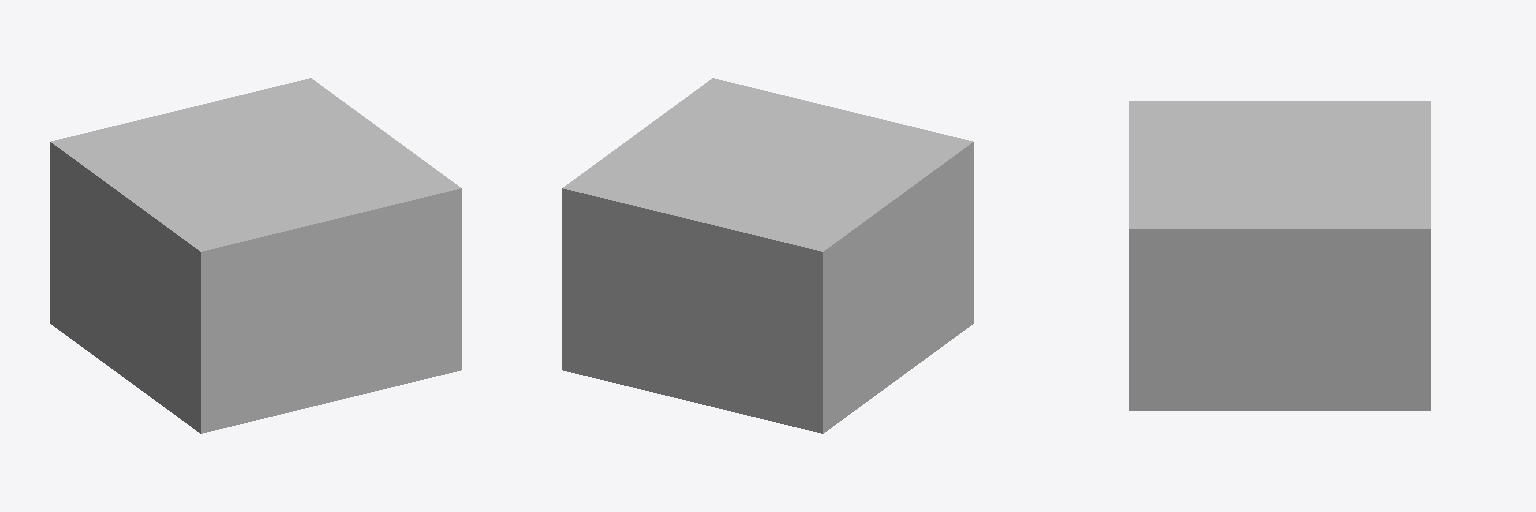
The model's file is Bunker - Free Sample-34-Cardboard_Dark_Brown_Close-14.obj.
The picture shows the model from 3 angles: view 1: azimuth 30°, elevation 25°; view 2: azimuth 150°, elevation 25°; view 3: azimuth 270°, elevation 25°; orthographic projection.
Parts seen in each view (by area): view 1: Cardboard_Dark_Brown_Close-14; view 2: Cardboard_Dark_Brown_Close-14; view 3: Cardboard_Dark_Brown_Close-14.
Boxes of the visible parts, box(x1,y1,x2,y2) form: Cardboard_Dark_Brown_Close-14: box(50, 78, 461, 433); Cardboard_Dark_Brown_Close-14: box(562, 78, 973, 433); Cardboard_Dark_Brown_Close-14: box(1129, 101, 1430, 410).
Size of the model in its own units: 0.24 by 0.16 by 0.24.